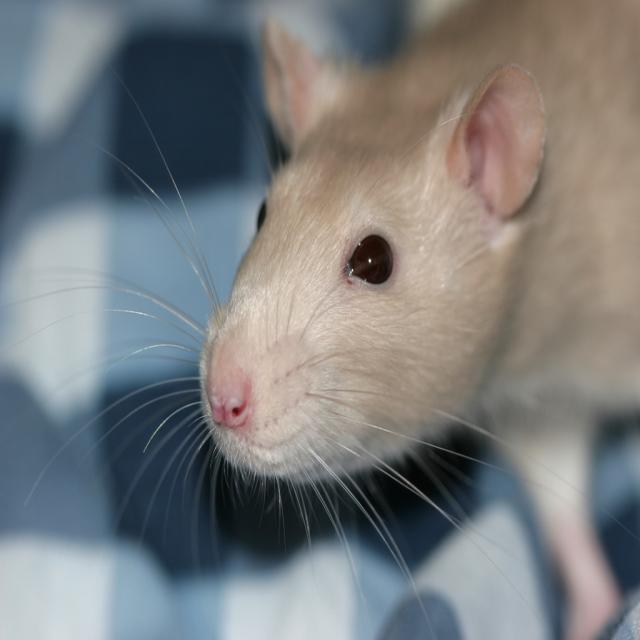rat: (197, 0, 639, 639)
